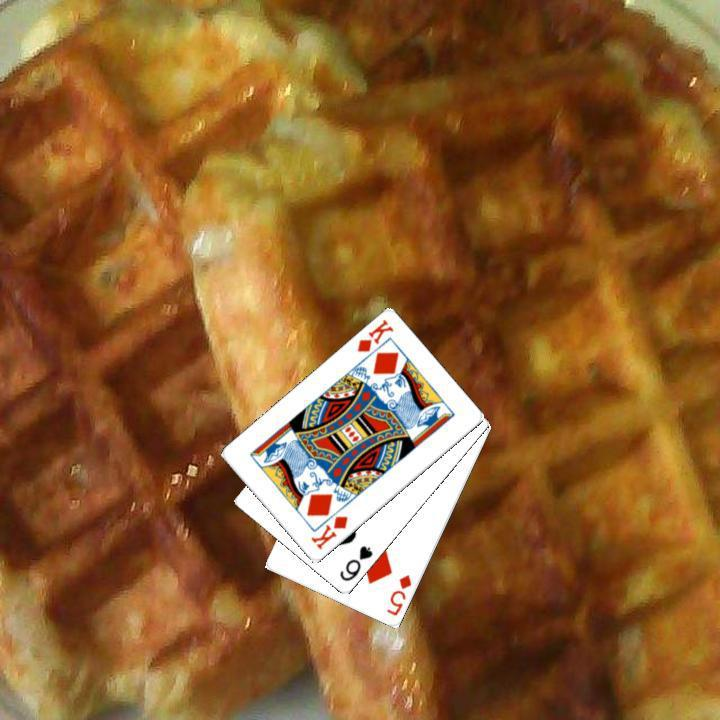5: (382, 571, 414, 618)
6: (335, 542, 375, 584)
K: (306, 512, 350, 552), (353, 315, 396, 355)
